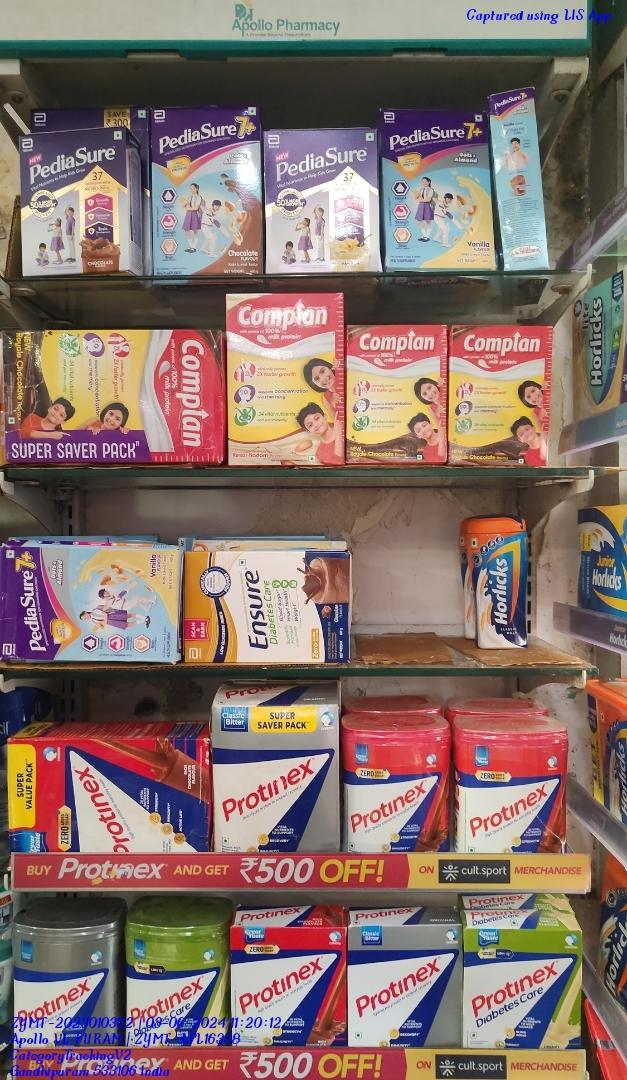COMPLAN_CHOCOLATE_200_GMS_PACK: (345, 325, 447, 461), (452, 330, 545, 460)
PEDIASURE_7_PLUS_CHOCOLATE_400_G_PACK: (153, 108, 259, 276)
PEDIASURE_CHOCOLATE_500_G_PACK: (21, 128, 136, 274)
PEDIASURE_VANILLA_500_G_PACK: (266, 125, 381, 270)
PROTINEX_CHOCOLATE_400_G_JAR: (453, 717, 567, 852), (345, 715, 450, 853)
PROTINEX_ORIGINAL_400_G_JAR: (15, 898, 122, 1050)
